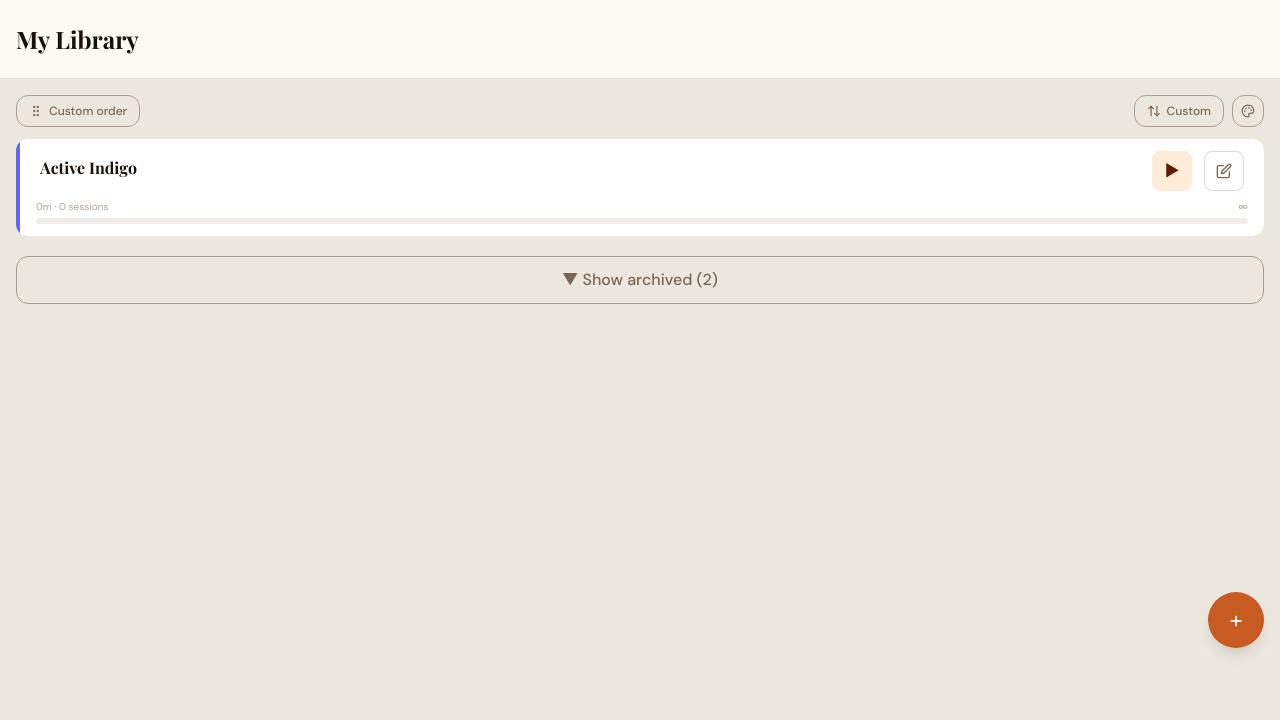
ProjectLibrary color filter › filter applies to archived projects too
Select indigo filter
Step 1. Click the button named "Filter by color" → x=1248, y=111, box [1232,95,1264,127]
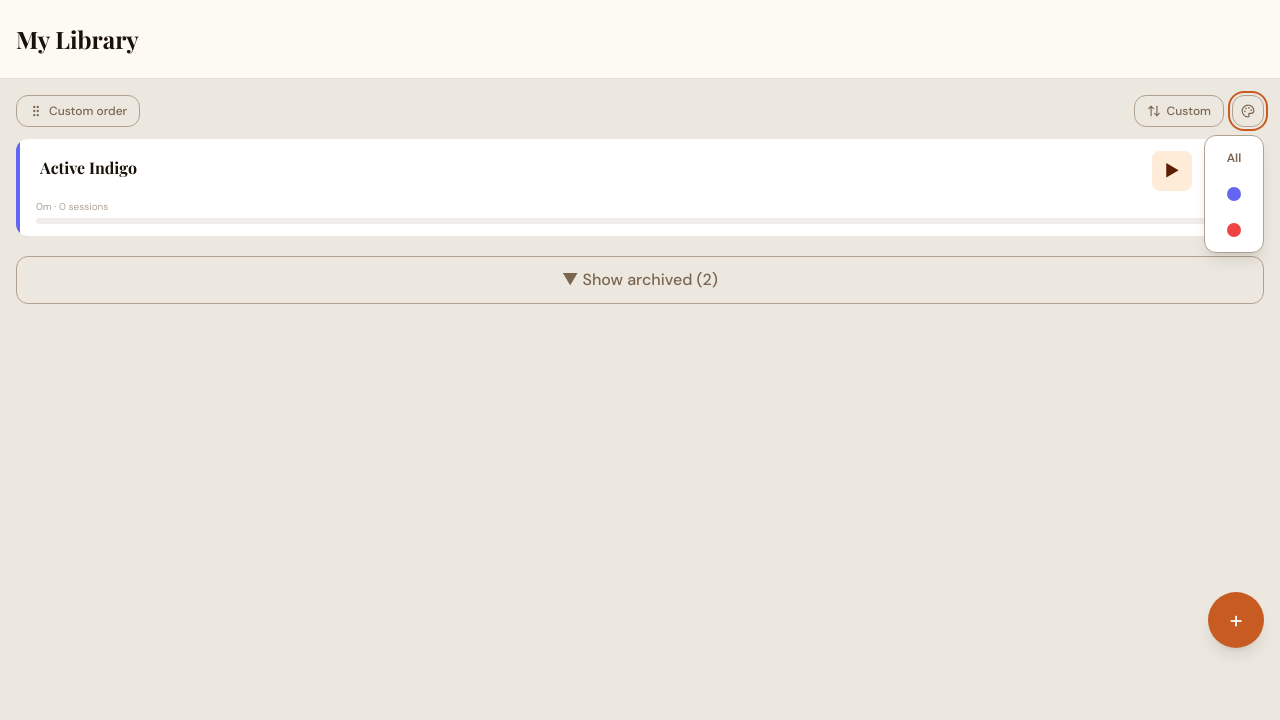
Step 2. Click the button named "Filter by indigo" → x=1234, y=194, box [1205,176,1263,212]
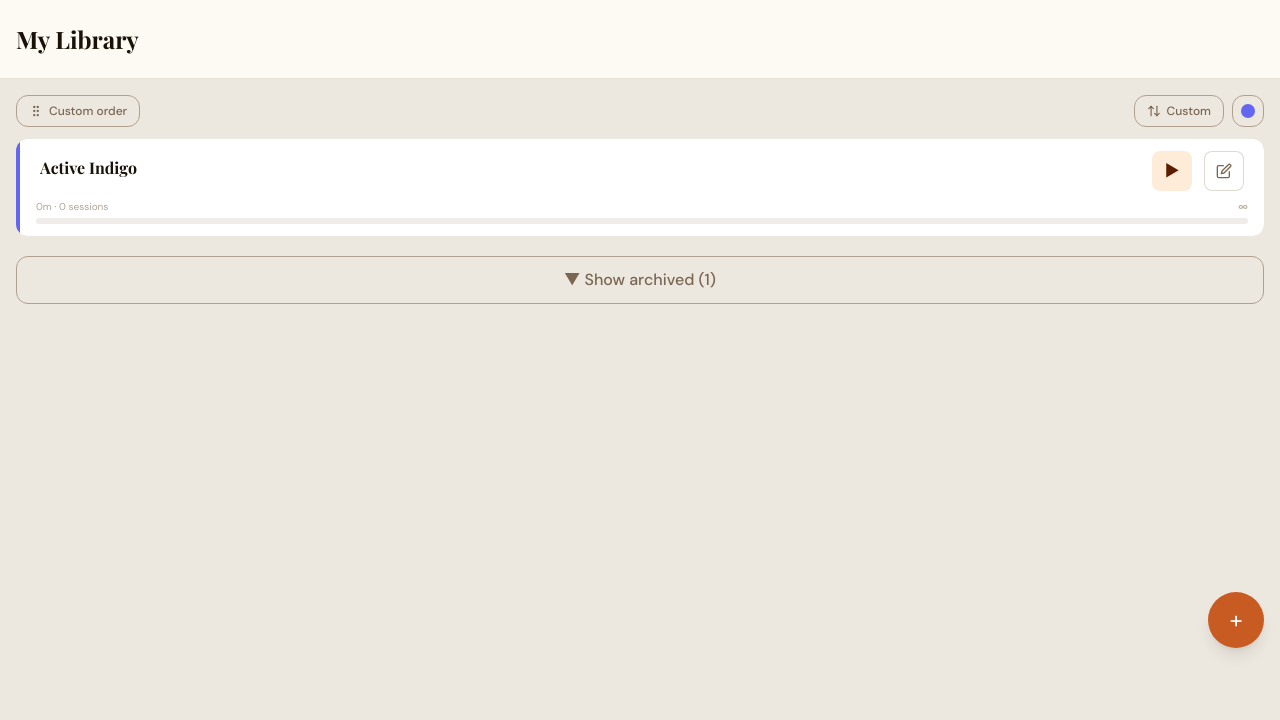
Expand archived section
Step 3. Click the button "▼ Show archived (1)" → x=640, y=280, box [16,256,1264,304]
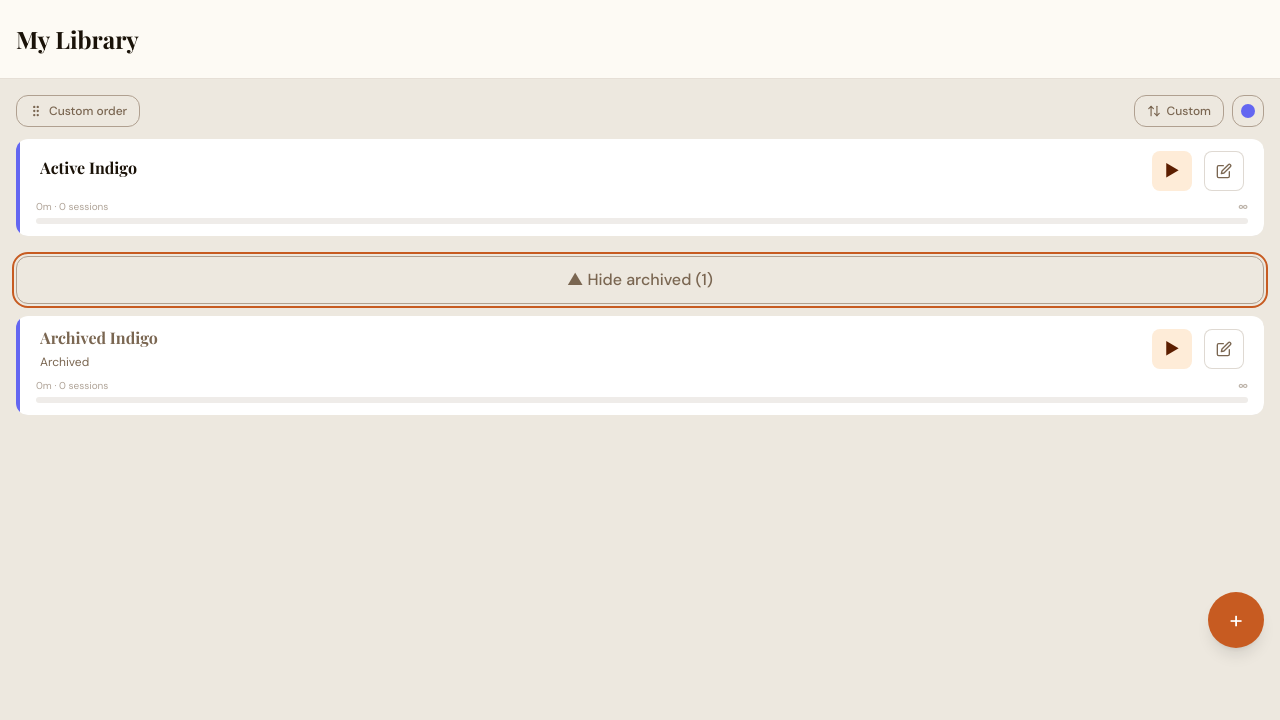
Result: the text "Archived Indigo" is shown at [40,327,158,348]
